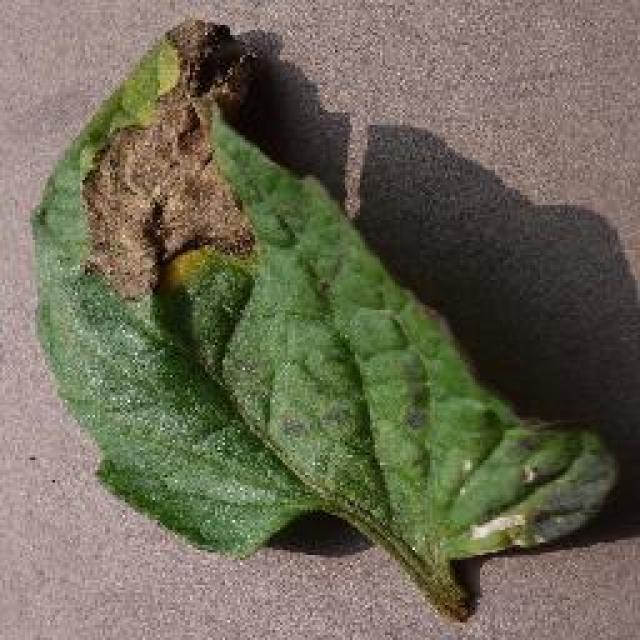Tomato Late Blight: (83, 15, 325, 302)
